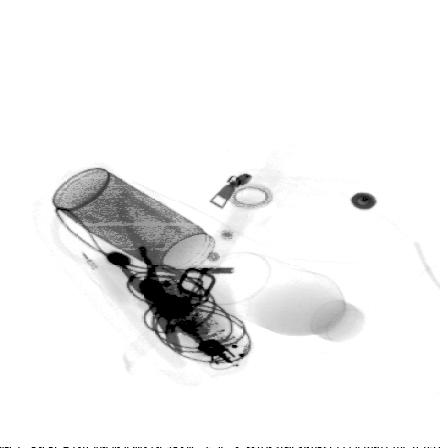Scissors: (66, 193, 215, 354)
